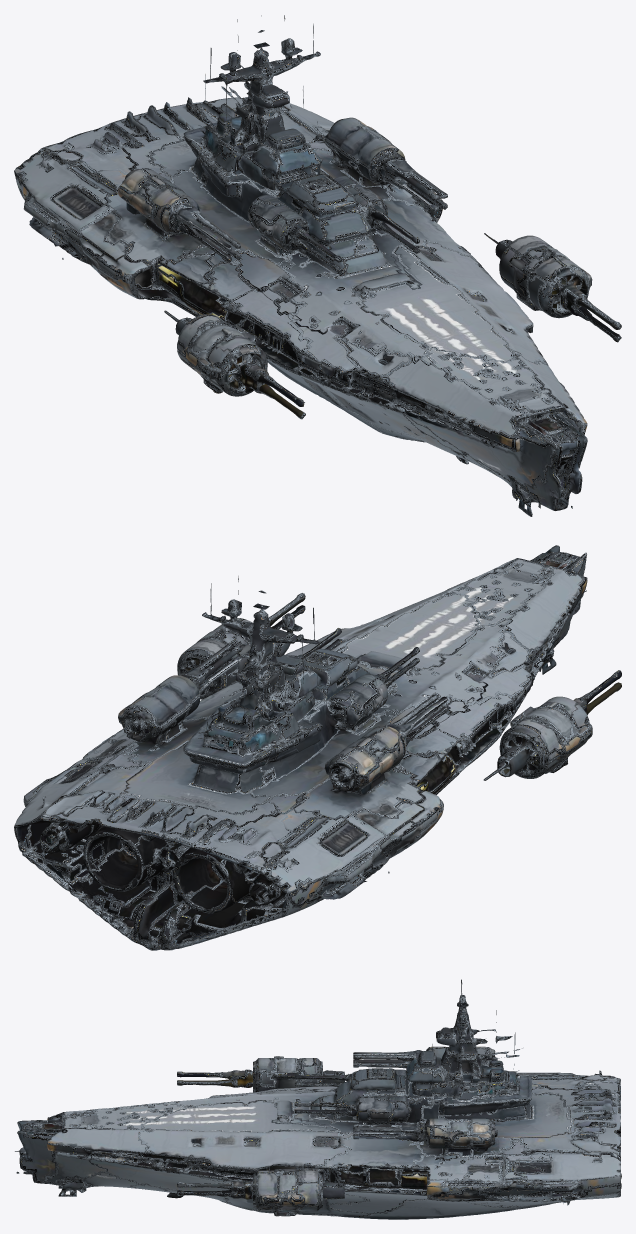
The model's file is gunship.glb.
The picture shows the model from 3 angles, top to bottom: view 1: azimuth 30°, elevation 25°; view 2: azimuth 150°, elevation 25°; view 3: azimuth 270°, elevation 25°; orthographic projection. The views are drawn at different scales.
Parts seen in each view (by area): view 1: node_0; view 2: node_0; view 3: node_0.
Boxes of the visible parts, x1,y1,x2,y2 form: node_0: [14, 15, 621, 516]; node_0: [14, 545, 621, 950]; node_0: [15, 979, 621, 1219].
Size of the model in its own units: 0.5872 by 0.4678 by 1.12.
Materials: 1 (1 with a texture image).
